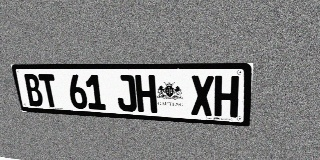1: (84, 74, 106, 110)
6: (66, 74, 89, 109)
B: (23, 74, 44, 107)
H: (214, 76, 239, 118), (135, 75, 157, 113)
J: (115, 75, 137, 112)
T: (38, 74, 60, 108)
X: (191, 75, 214, 116)
